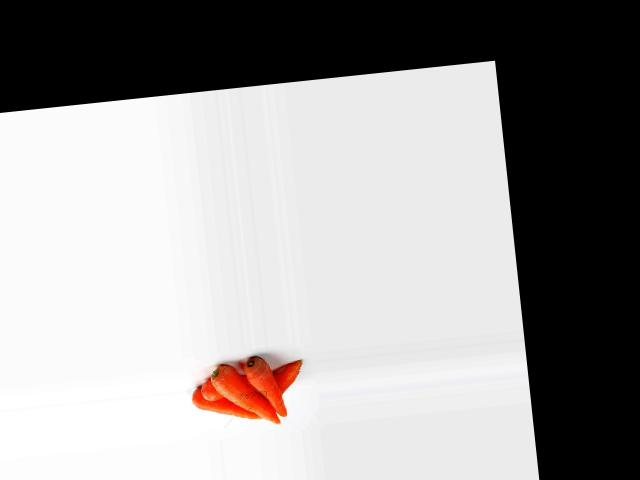carrot: (241, 352, 289, 419)
